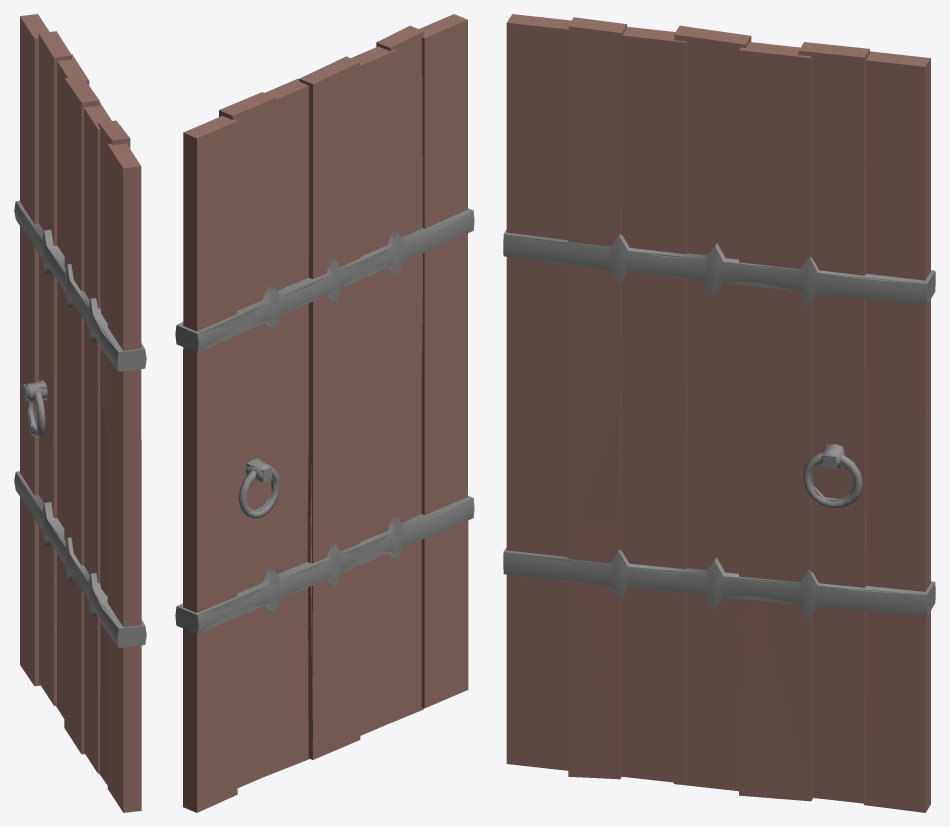
The model's file is Wooden_Door_1.fbx.
3 views of the same model, side by side, from view 1: azimuth 30°, elevation 25°; view 2: azimuth 150°, elevation 25°; view 3: azimuth 270°, elevation 25° (orthographic). The views are drawn at different scales.
Visible parts, largest first — view 1: Wooden_Door_1_LOD0, Wooden_Door_1; view 2: Wooden_Door_1_LOD0, Wooden_Door_1; view 3: Wooden_Door_1_LOD0, Wooden_Door_1.
Part boxes in pixels (box(x1,y1,x2,y2)): Wooden_Door_1_LOD0: box(16, 14, 144, 812); Wooden_Door_1: box(14, 123, 146, 718); Wooden_Door_1_LOD0: box(176, 14, 473, 812); Wooden_Door_1: box(175, 31, 474, 773); Wooden_Door_1_LOD0: box(503, 14, 934, 812); Wooden_Door_1: box(503, 44, 935, 803).
Bounding box in the file's own units: 0.374 × 2.18 × 1.14.
